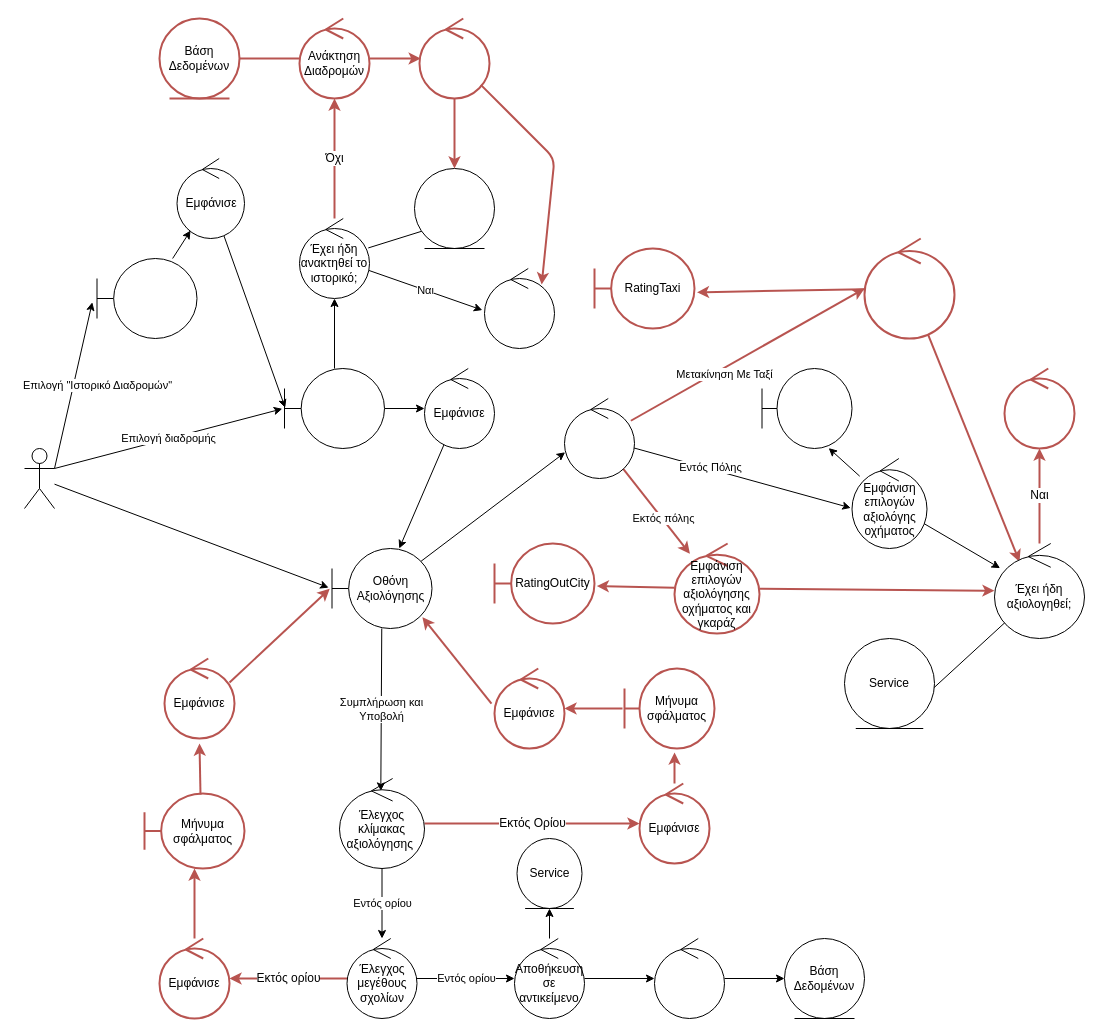
Image size: 1103x1036. Some labels were removed from this diagram. Here are the shapes that lost their labels. From the top down, the centre of each, then its label:
pixel 454 58: Αποθήκευση ιστορικού
pixel 454 208: Customer
pixel 146 298: Αρχική οθόνη
pixel 519 308: Εμφάνισε διαδρομές
pixel 909 288: Εμφάνιση επιλογών αξιολόγησης ταξί και οδηγού
pixel 334 408: Ιστορικό Διαδρομών
pixel 806 408: RatingRental
pixel 1039 408: Εμφάνισε αξιολόγηση
pixel 599 438: Έλεγχος τύπου διαδρομής
pixel 39 478: Πελάτης
pixel 689 978: Αποθήκευση στη βάση
